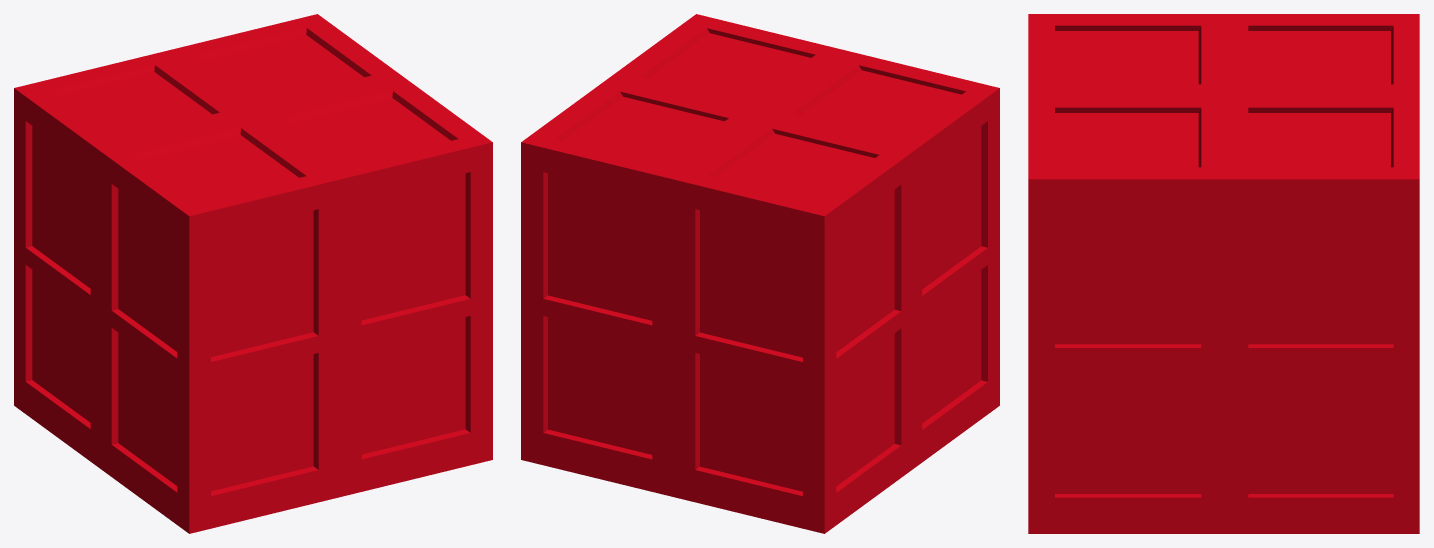
3 views of the same model, side by side, from view 1: azimuth 30°, elevation 25°; view 2: azimuth 150°, elevation 25°; view 3: azimuth 270°, elevation 25° (orthographic). The views are drawn at different scales.
Visible parts, largest first — view 1: Cube; view 2: Cube; view 3: Cube.
Boxes of the visible parts, box(x1,y1,x2,y2) form: Cube: box(14, 14, 492, 533); Cube: box(521, 14, 999, 533); Cube: box(1028, 14, 1419, 533).
Size of the model in its own units: 200 by 200 by 200.
